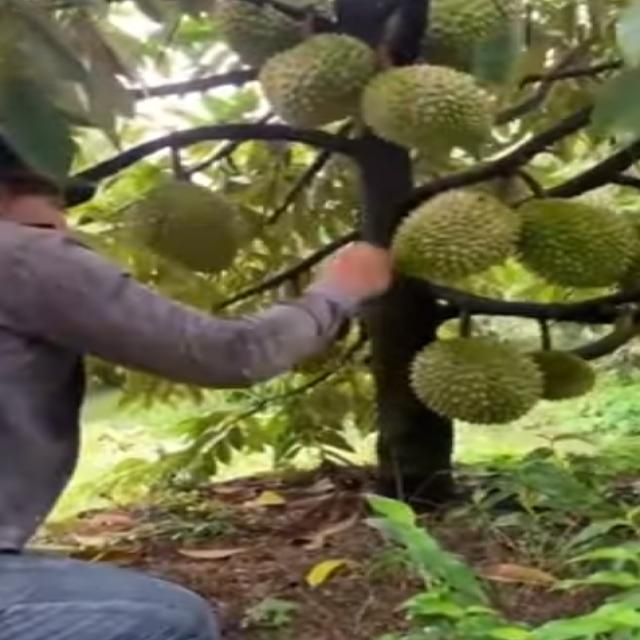immature: (355, 62, 513, 154), (385, 190, 531, 288), (410, 335, 552, 432), (124, 176, 254, 278), (513, 192, 640, 292), (257, 29, 378, 126)
